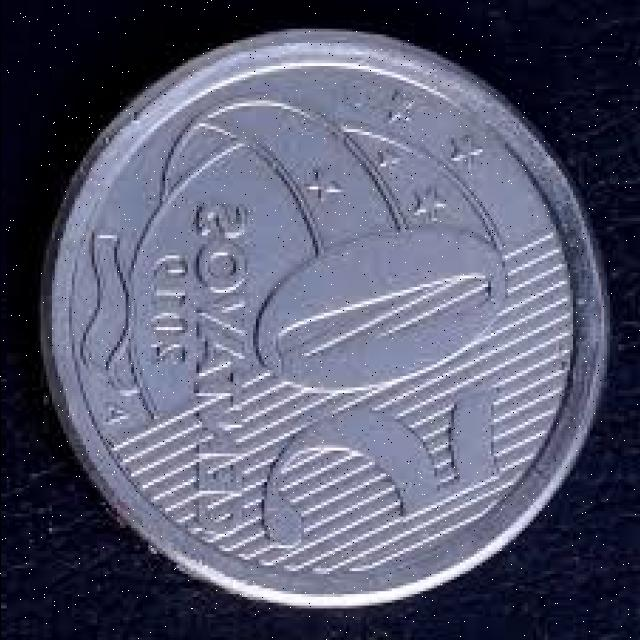50 cent: (50, 19, 614, 608)
